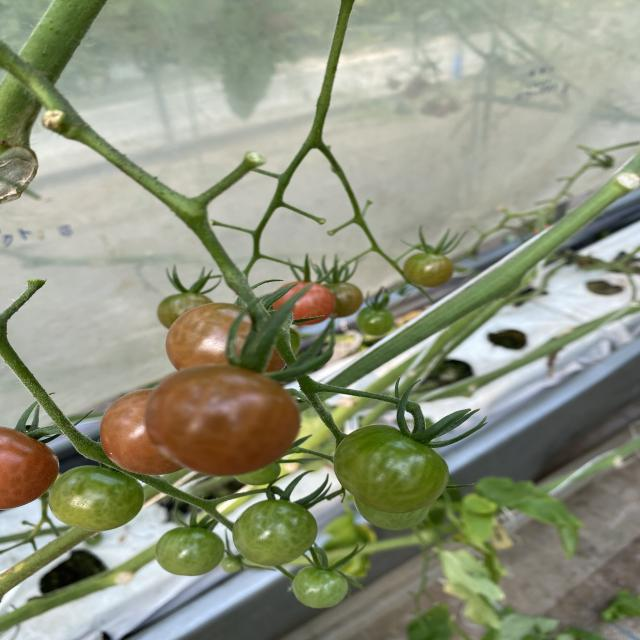c-half-riped: (145, 363, 299, 477), (165, 302, 285, 372), (101, 388, 183, 476), (273, 282, 334, 324)
c-riped: (1, 426, 58, 509)
c-unriped: (333, 425, 449, 513), (46, 464, 148, 533), (232, 499, 317, 566), (155, 527, 224, 576), (353, 498, 429, 530), (292, 566, 349, 608), (236, 458, 282, 486)
